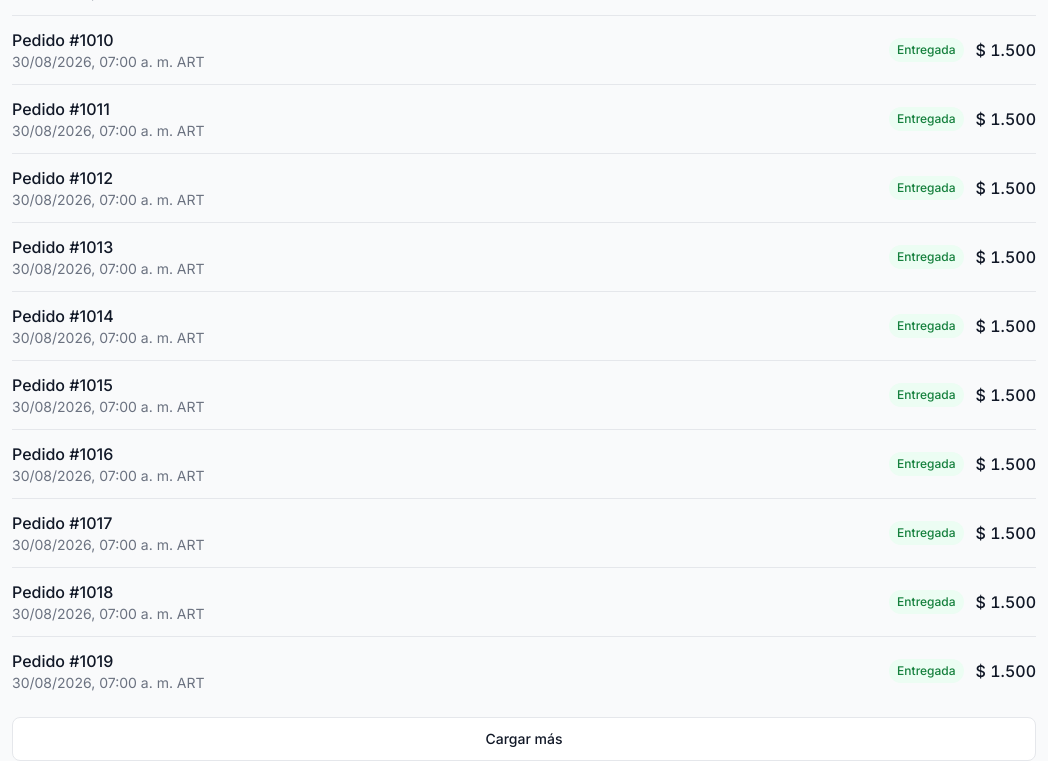
PurchaseHistoryList — "Cargar más" (T3.2) › aparece cuando total > limit, agrega resultados sin reemplazar los ya mostrados, y desaparece al llegar al total
(page scrolled)
Click the button "Cargar más": coordinates (524, 739) left=12, top=717, right=1036, bottom=760
(page scrolled)
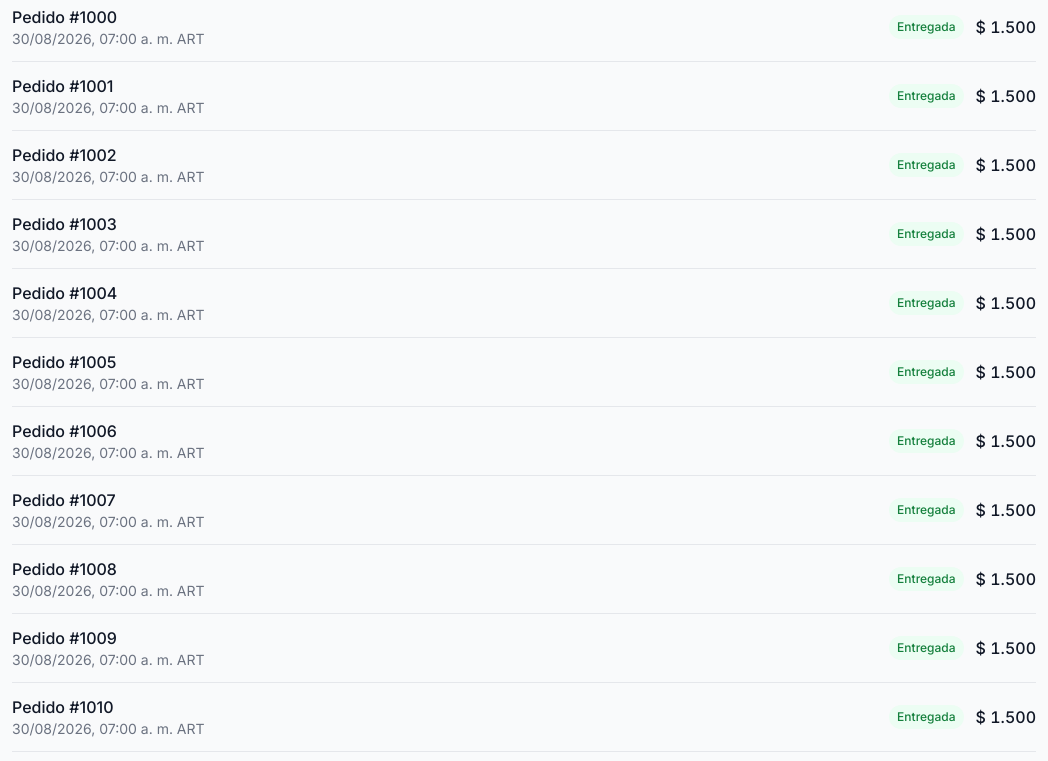
Expected: the text "Pedido #1000" is shown, left=12, top=7, right=117, bottom=27
Expected: the number of links is 25
Expected: the button "Cargar más" is gone
